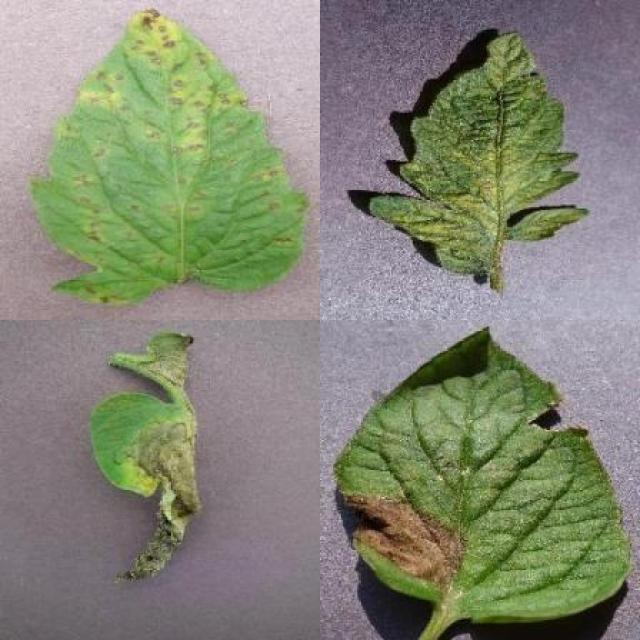Late Blight: (337, 326, 633, 628), (84, 388, 206, 592)
Mosaic Virus: (368, 28, 592, 278)
Septoria: (33, 10, 310, 303)
